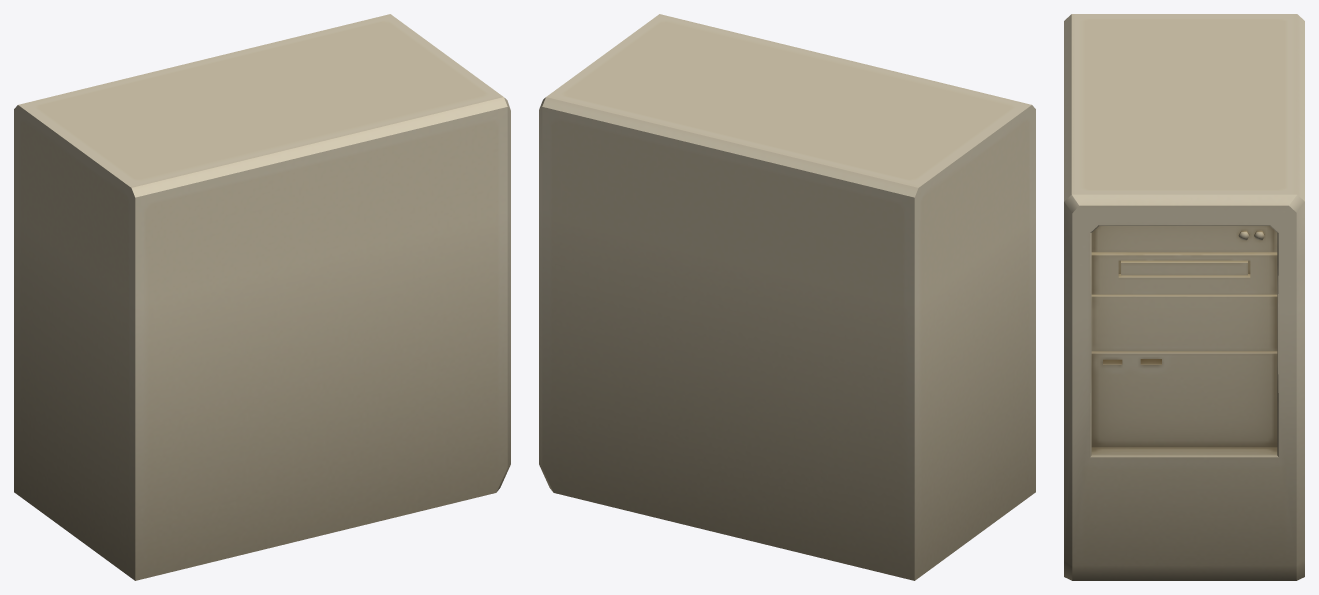
3 views of the same model, side by side, from view 1: azimuth 30°, elevation 25°; view 2: azimuth 150°, elevation 25°; view 3: azimuth 270°, elevation 25° (orthographic).
Visible parts, largest first — view 1: Computer_box; view 2: Computer_box; view 3: Computer_box.
Part boxes in pixels (<box>): Computer_box: <box>14,14,510,580</box>; Computer_box: <box>539,14,1035,580</box>; Computer_box: <box>1064,14,1304,580</box>.
Bounding box in the file's own units: 64.98 × 63.81 × 35.9.
Materials: 1 (1 with a texture image).
